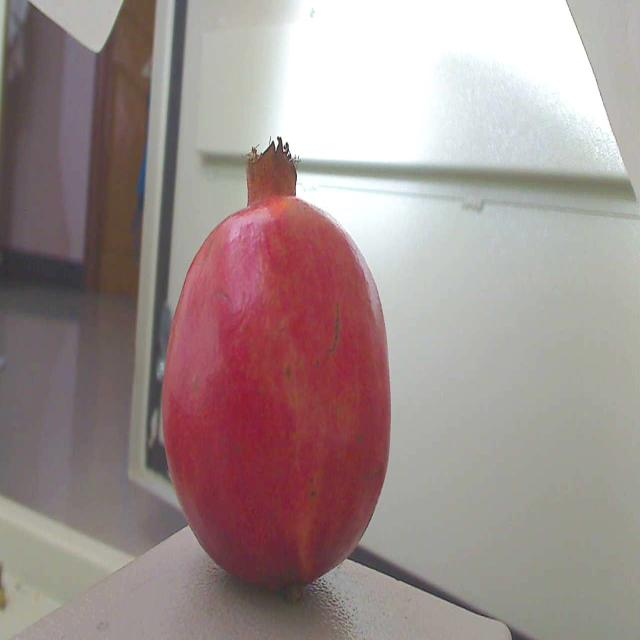pomegranate: (148, 118, 400, 609)
